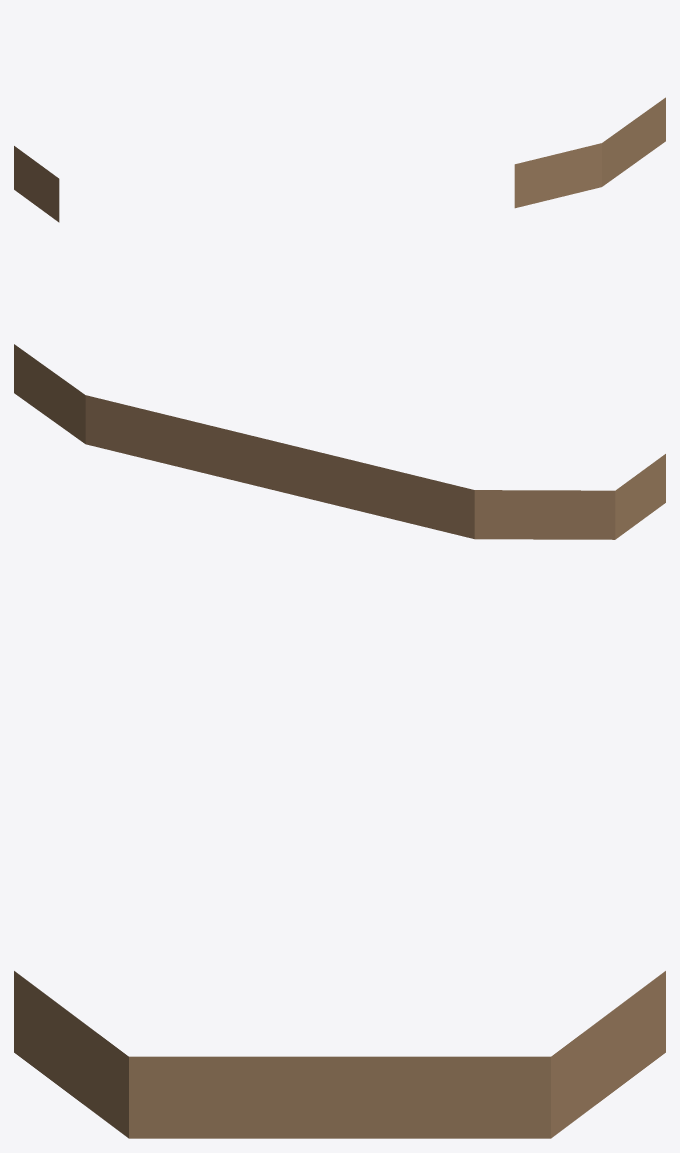
File: 1425-Buildings-shell-pieces-facade-bay-wall-round-an-opening-reveals-sill-head-emitBa.glb
3 renders of one model, top to bottom at view 1: azimuth 30°, elevation 25°; view 2: azimuth 150°, elevation 25°; view 3: azimuth 270°, elevation 25°, orthographic. The views are drawn at different scales.
Visible parts, largest first — view 1: emitBay; view 2: emitBay; view 3: emitBay.
Part boxes in pixels (bbox=[...]): emitBay: bbox=[14, 97, 665, 222]; emitBay: bbox=[14, 344, 665, 539]; emitBay: bbox=[14, 971, 665, 1138].
Size of the model in its own units: 39 by 3.05 by 22.
